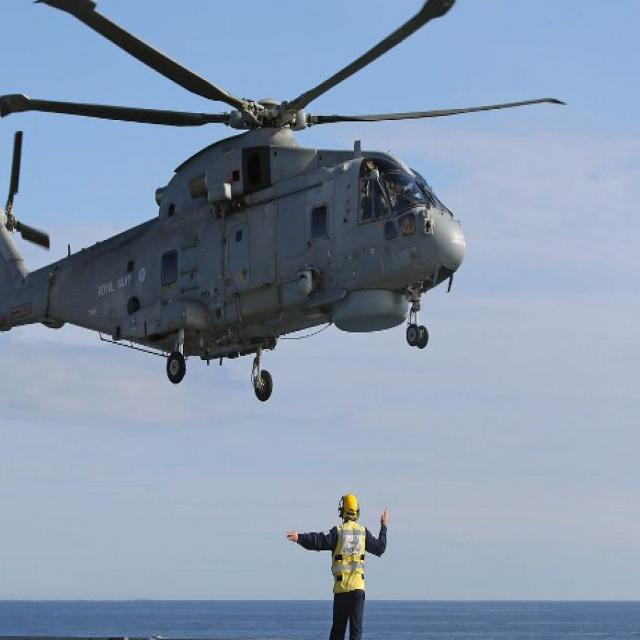helicopter: (1, 1, 576, 404)
